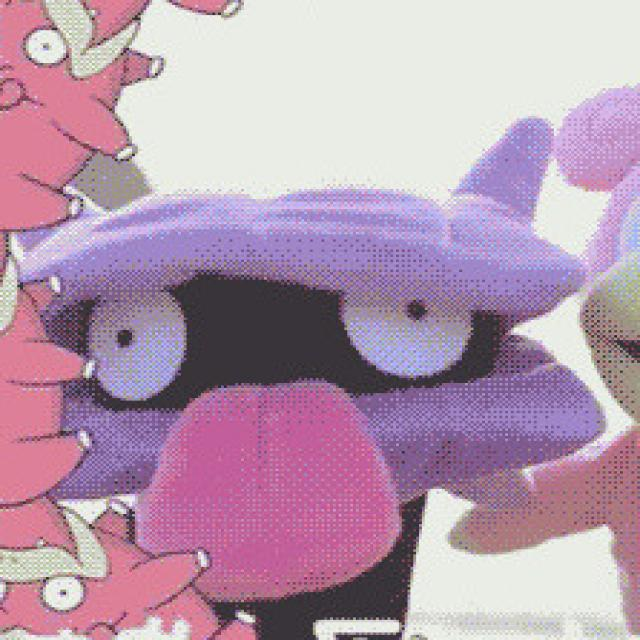Shellder: (54, 99, 604, 552)
